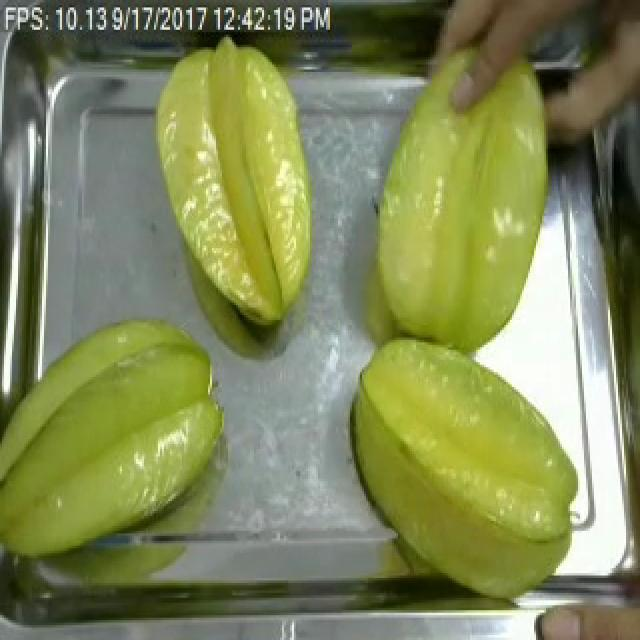fruit: (338, 325, 588, 610), (362, 32, 566, 370), (0, 303, 240, 573), (144, 32, 326, 345)
